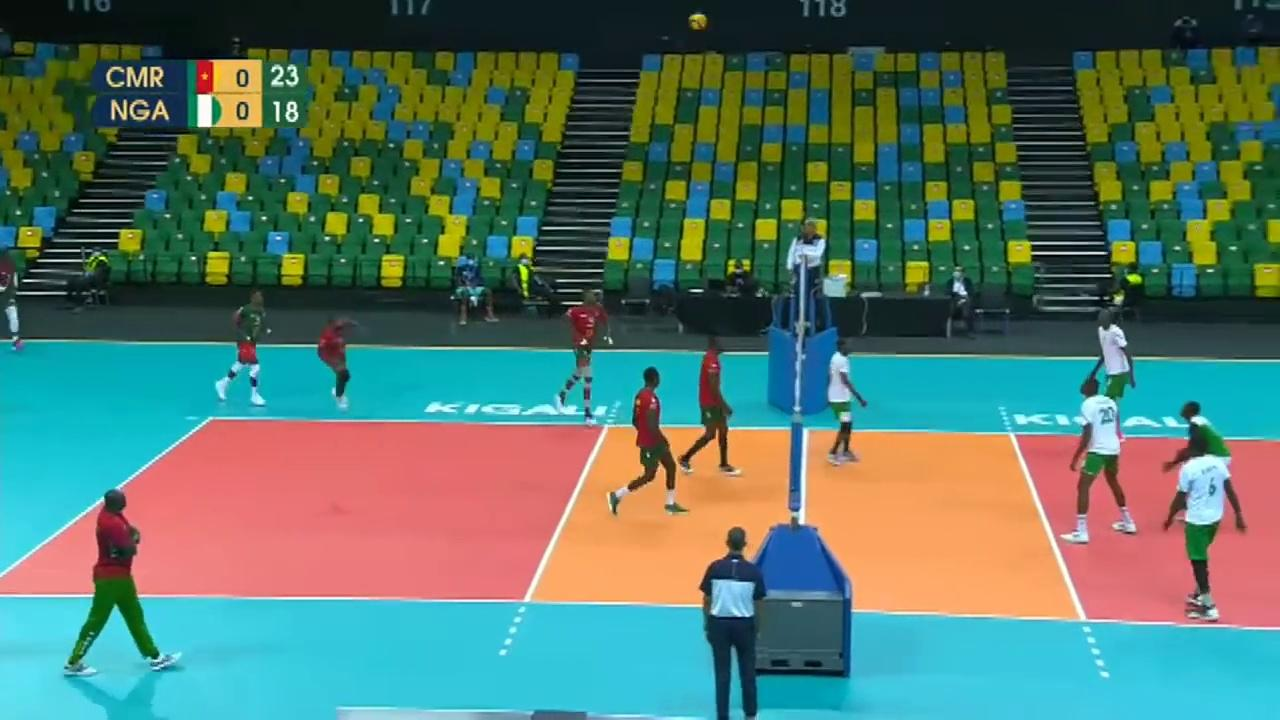player: (1166, 437, 1248, 627), (1062, 376, 1137, 544), (607, 372, 689, 515), (1160, 395, 1251, 523), (692, 339, 744, 474), (1086, 306, 1136, 443), (557, 292, 605, 431), (220, 292, 273, 405), (826, 341, 870, 465), (0, 238, 31, 357), (320, 315, 358, 409)
refree: (701, 529, 772, 718), (786, 221, 832, 328)
